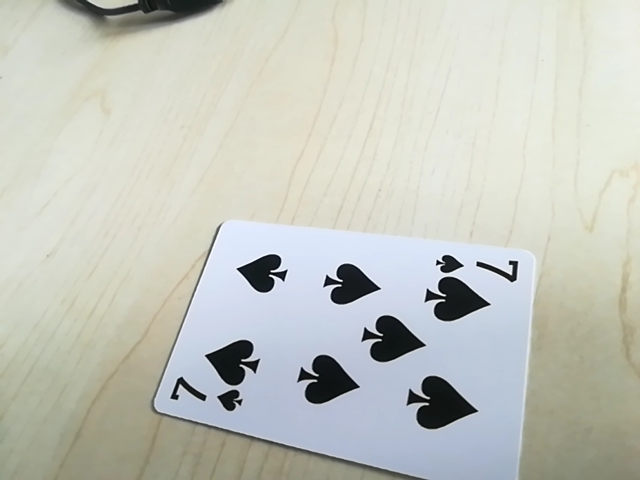ht 7: (431, 249, 525, 283), (162, 379, 244, 415)
